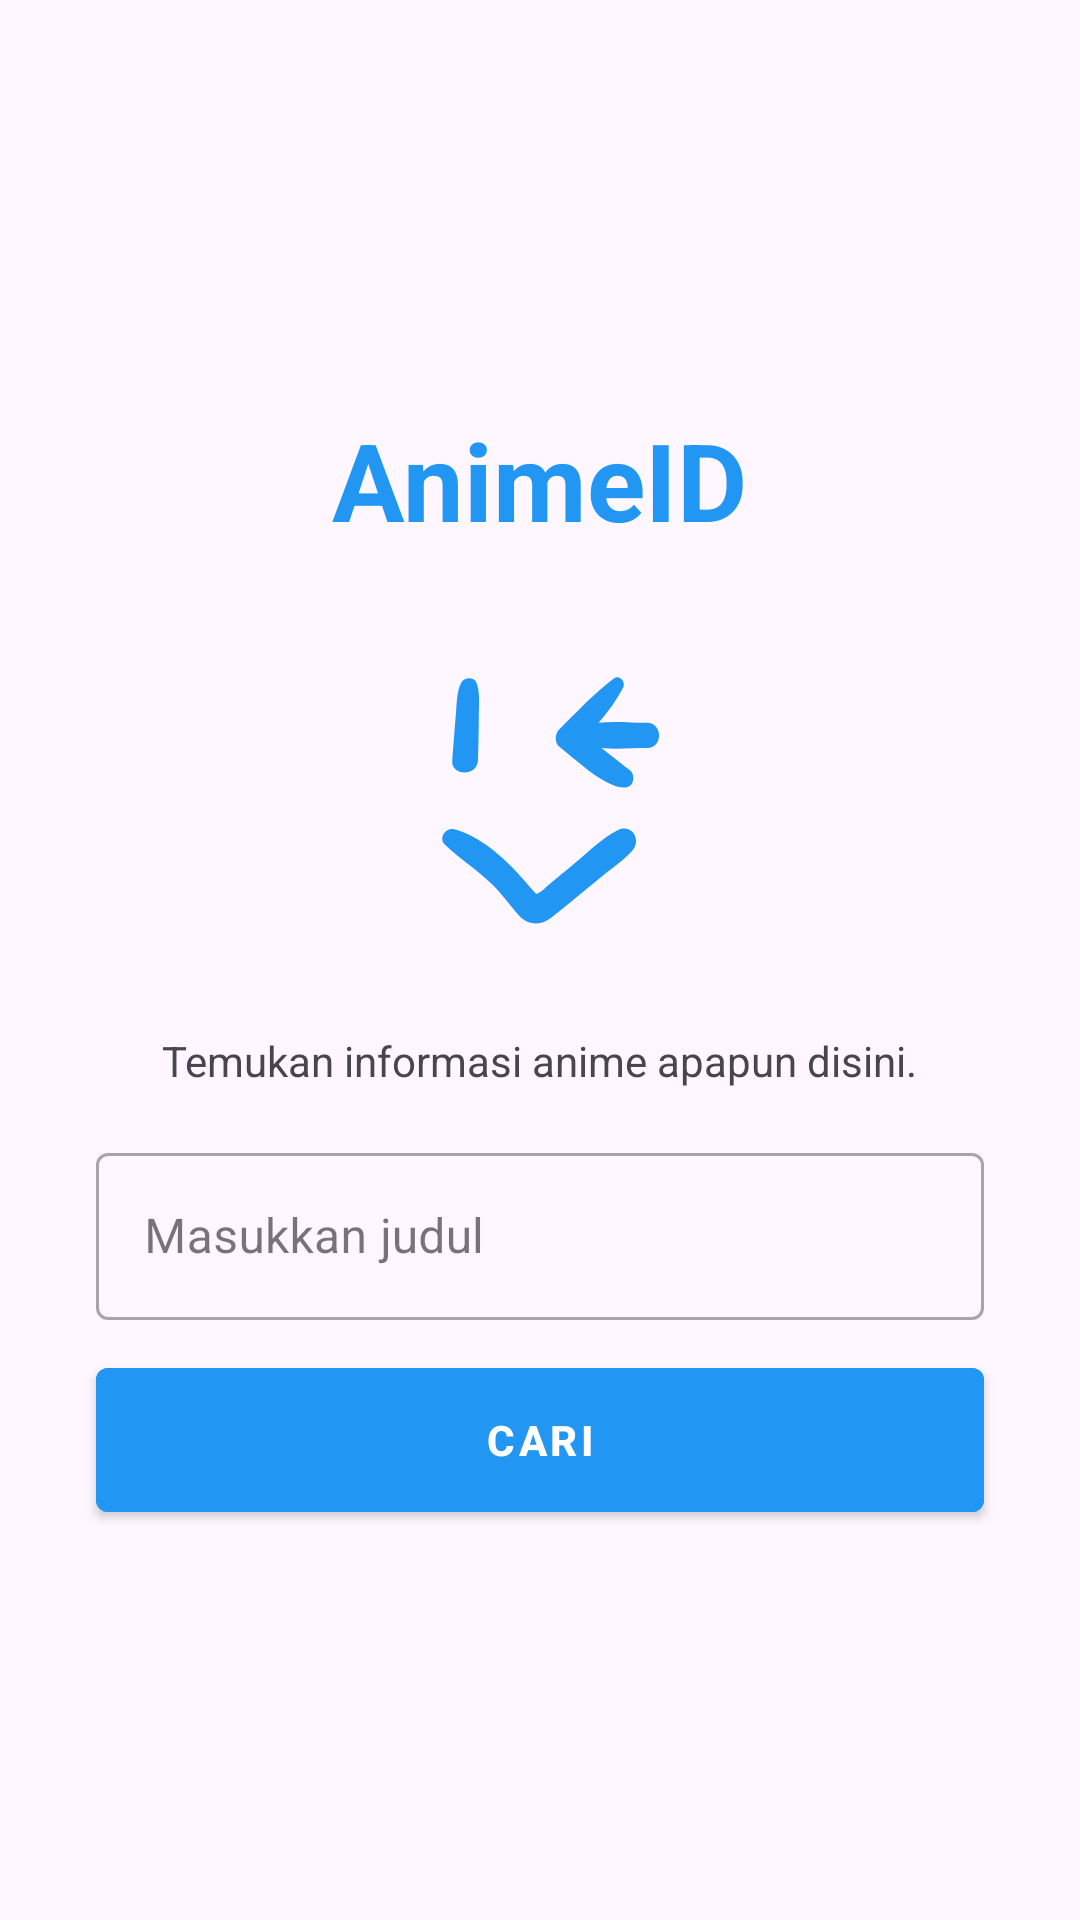

Icon click points for this 1080px x 1920px phone screenshot, format [x,y]:
blink emoji: [550,800]
